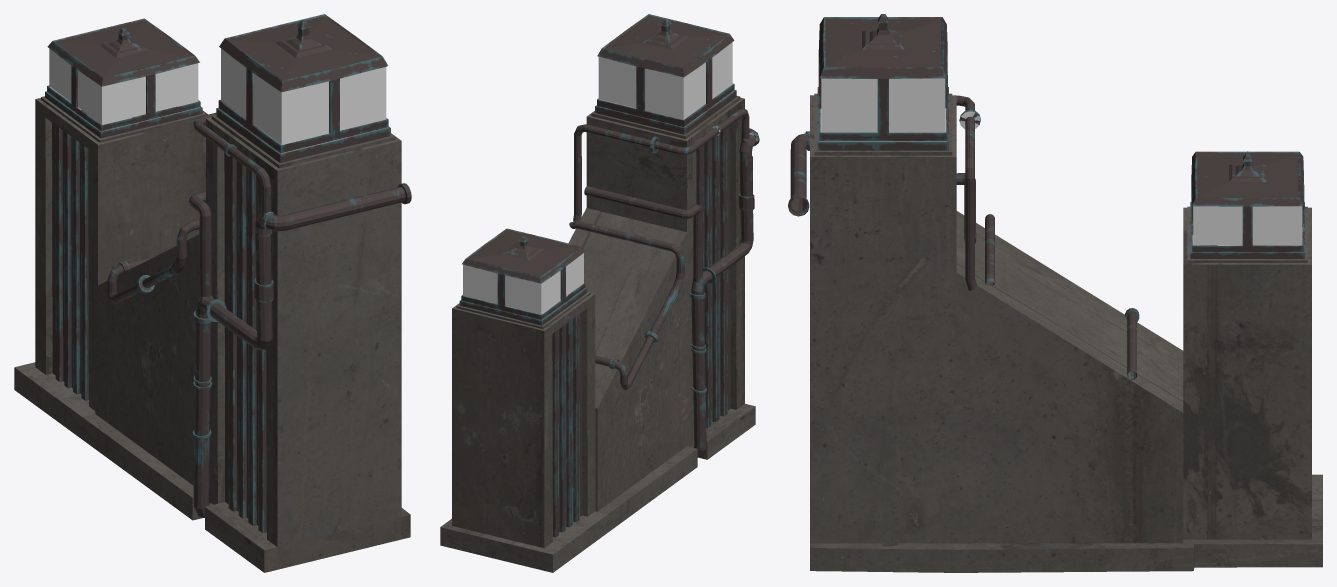
Rendered from MuroPrincipalEsquerda.fbx.
3 views of the same model, side by side, from view 1: azimuth 30°, elevation 25°; view 2: azimuth 150°, elevation 25°; view 3: azimuth 270°, elevation 25° (orthographic). The views are drawn at different scales.
Parts seen in each view (by area): view 1: Cube; view 2: Cube; view 3: Cube.
Part boxes in pixels (bbox=[...]): Cube: bbox=[14, 14, 411, 572]; Cube: bbox=[440, 14, 759, 572]; Cube: bbox=[788, 14, 1322, 572].
Size of the model in its own units: 553 by 1734 by 1615.
2 materials, 1 textured.
